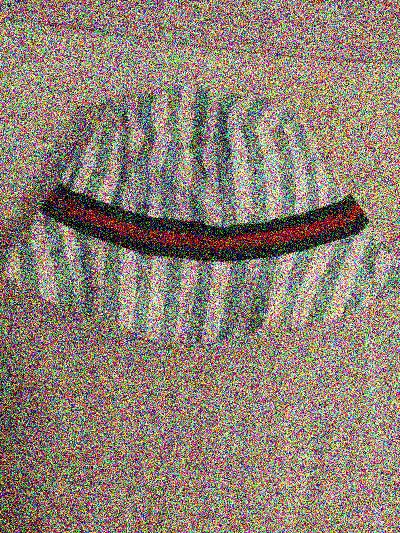Hat: (5, 91, 384, 352)
